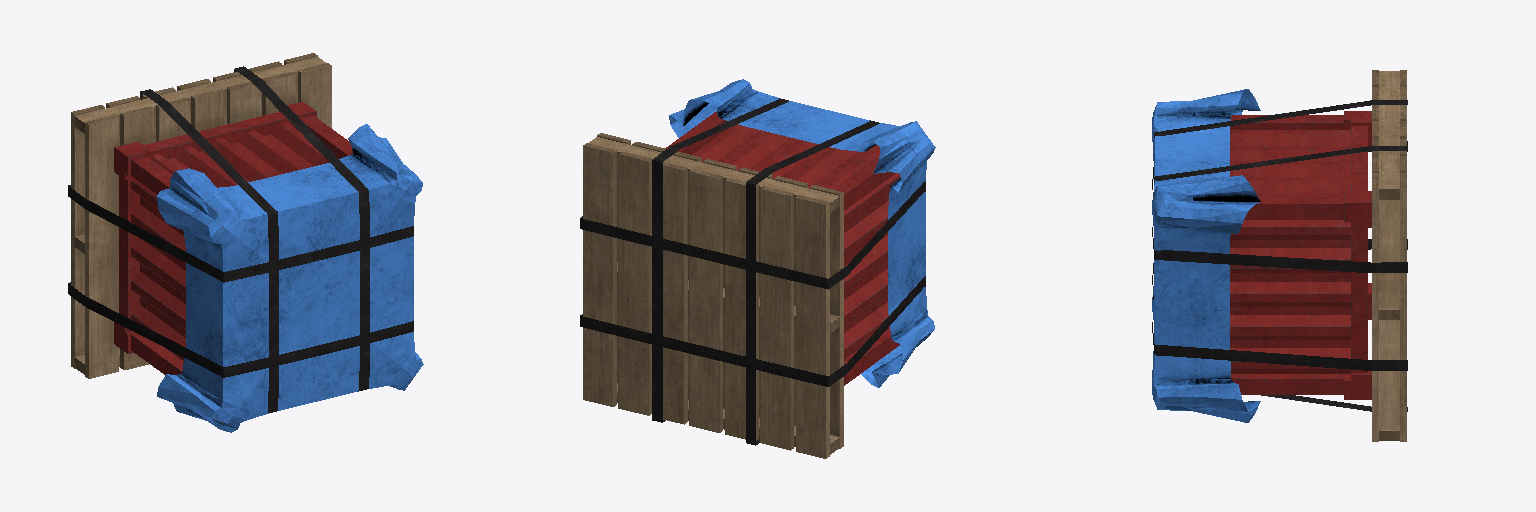
3 views of the same model, side by side, from view 1: azimuth 30°, elevation 25°; view 2: azimuth 150°, elevation 25°; view 3: azimuth 270°, elevation 25° (orthographic).
Parts seen in each view (by area): view 1: Airdrop; view 2: Airdrop; view 3: Airdrop.
Part boxes in pixels (bbox=[...]): Airdrop: bbox=[68, 53, 423, 432]; Airdrop: bbox=[580, 79, 935, 458]; Airdrop: bbox=[1152, 70, 1407, 441].
Size of the model in its own units: 2.88 by 2.88 by 2.56.
Materials: 1 (1 with a texture image).